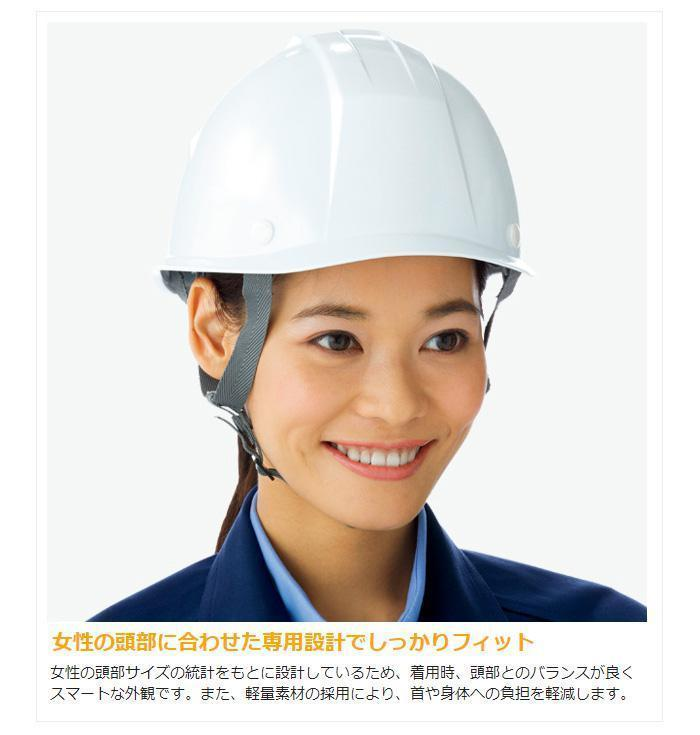helmet: (157, 28, 534, 274)
